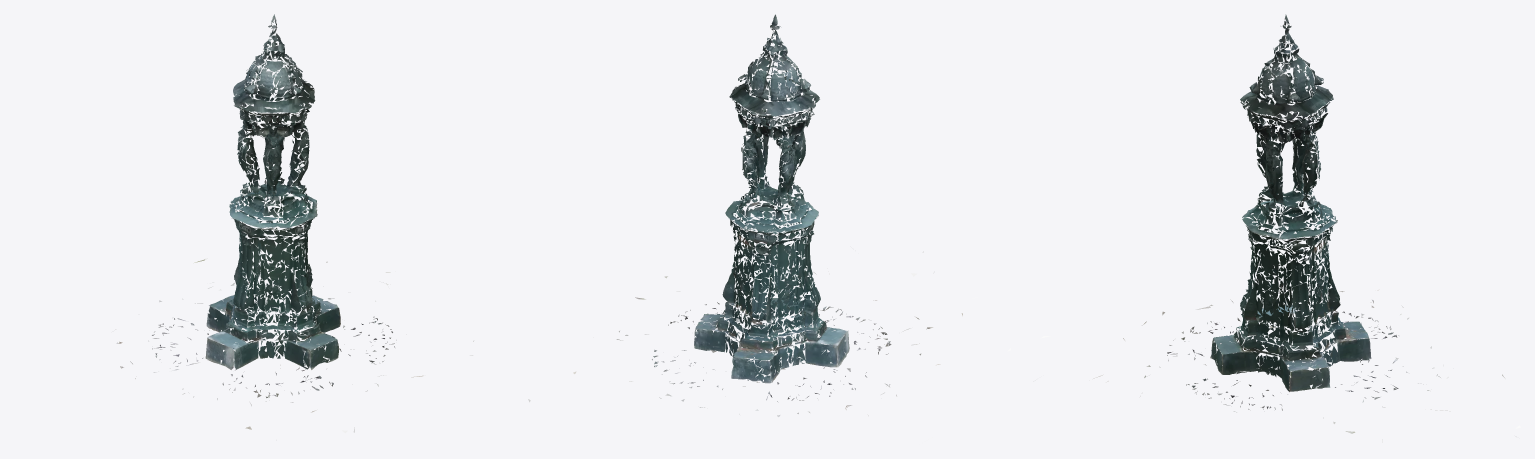
Rendered from fn-wallace.glb.
3 views of the same model, side by side, from view 1: azimuth 30°, elevation 25°; view 2: azimuth 150°, elevation 25°; view 3: azimuth 270°, elevation 25° (orthographic). The views are drawn at different scales.
Visible parts, largest first — view 1: Object_2; view 2: Object_2; view 3: Object_2.
Boxes of the visible parts, box(x1,y1,x2,y2) form: Object_2: box(115, 14, 473, 440); Object_2: box(528, 14, 977, 441); Object_2: box(1007, 14, 1520, 436).
Bounding box in the file's own units: 3.08 × 2.66 × 3.54.
1 material, 1 textured.
